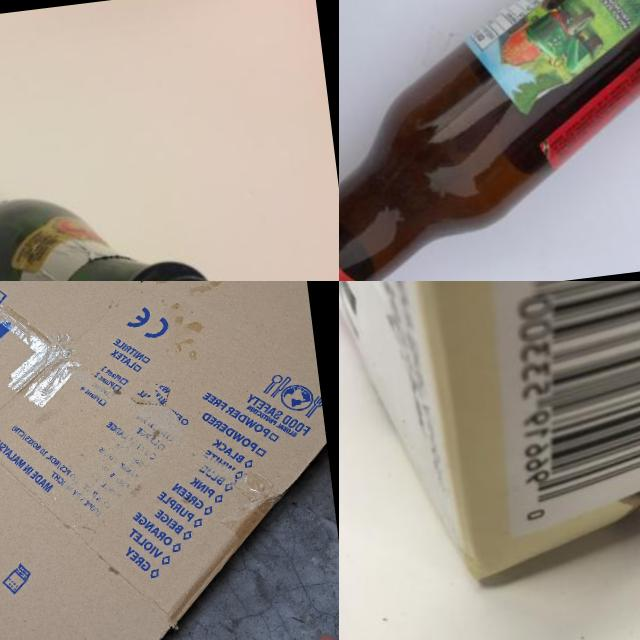garrafa de vidro: (339, 0, 640, 281), (0, 174, 238, 281)
papelão: (0, 281, 339, 640), (339, 281, 640, 606)
